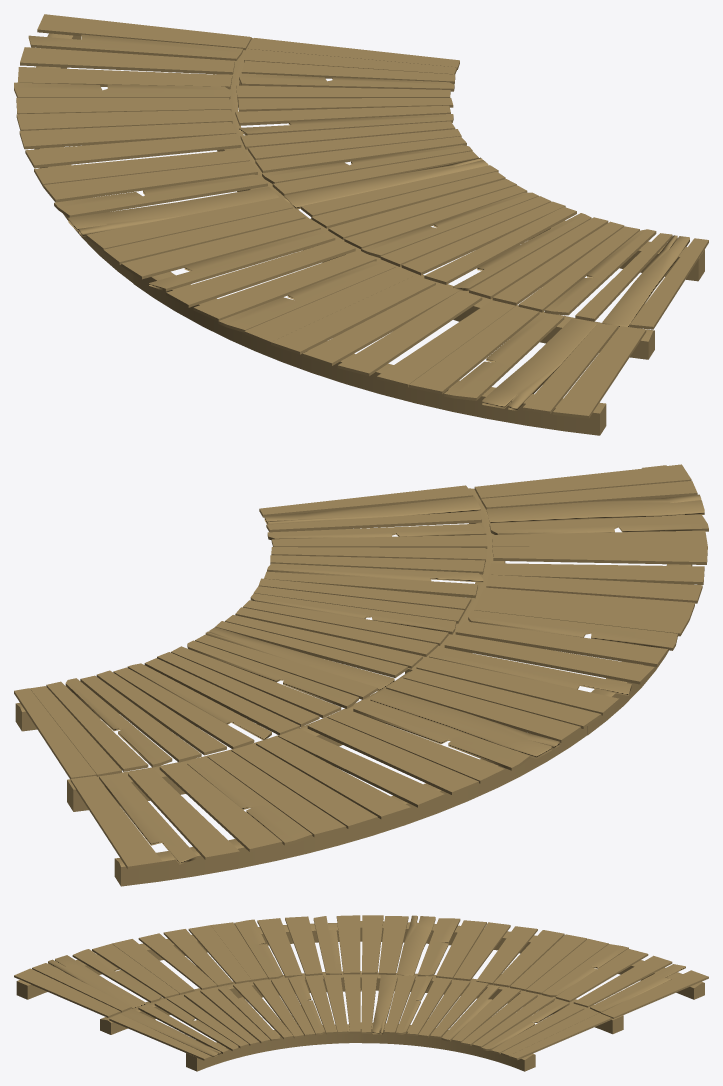
File: Road_Beam_Double_02.fbx
The picture shows the model from 3 angles, top to bottom: view 1: azimuth 30°, elevation 25°; view 2: azimuth 150°, elevation 25°; view 3: azimuth 270°, elevation 25°; orthographic projection. The views are drawn at different scales.
Parts seen in each view (by area): view 1: Road_Beam_Double_02; view 2: Road_Beam_Double_02; view 3: Road_Beam_Double_02.
Boxes of the visible parts, x1,y1,x2,y2 form: Road_Beam_Double_02: [14, 14, 708, 435]; Road_Beam_Double_02: [14, 464, 708, 886]; Road_Beam_Double_02: [14, 915, 708, 1071].
Bounding box in the file's own units: 362 × 18.81 × 739.
